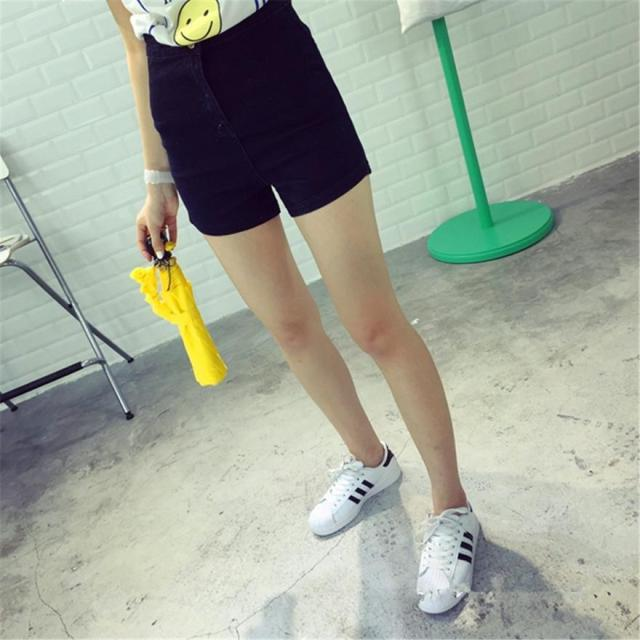shorts: (145, 1, 370, 225)
